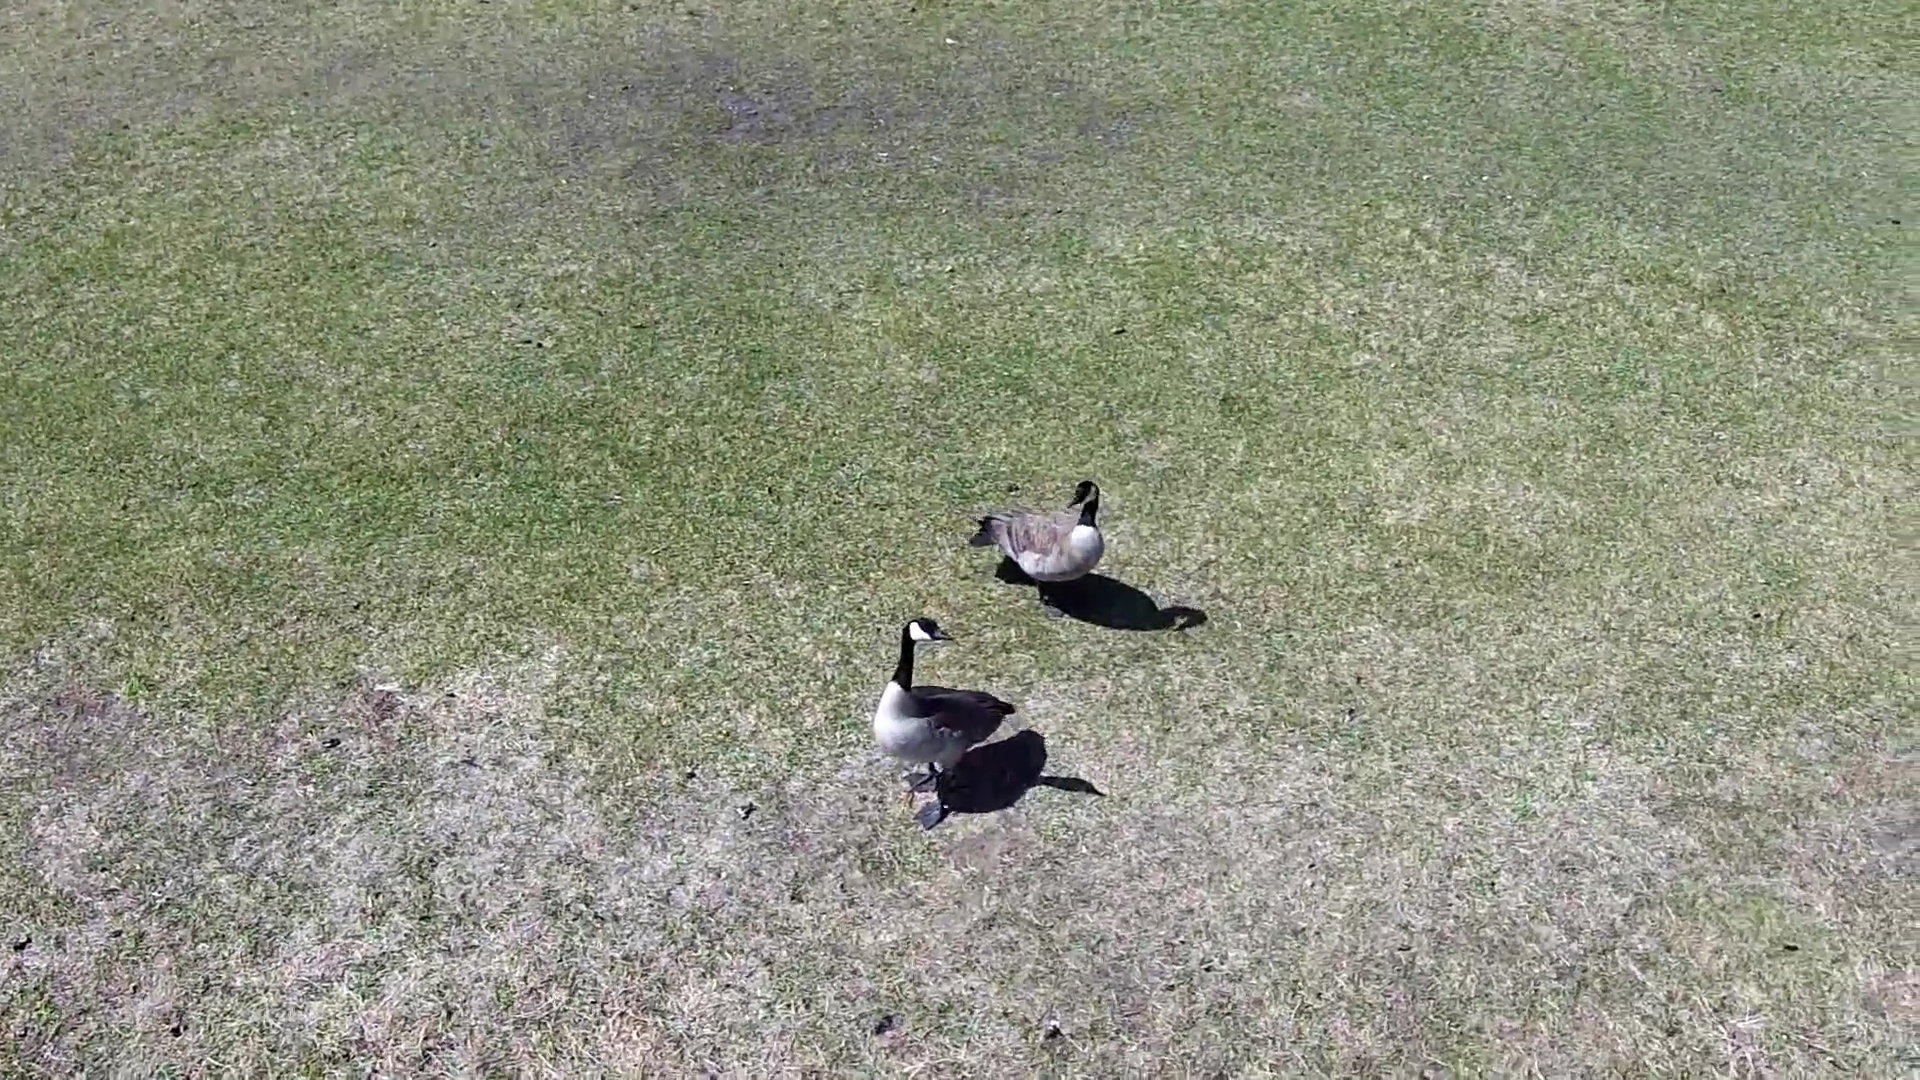goose: (860, 611, 1027, 827), (967, 483, 1116, 583)
